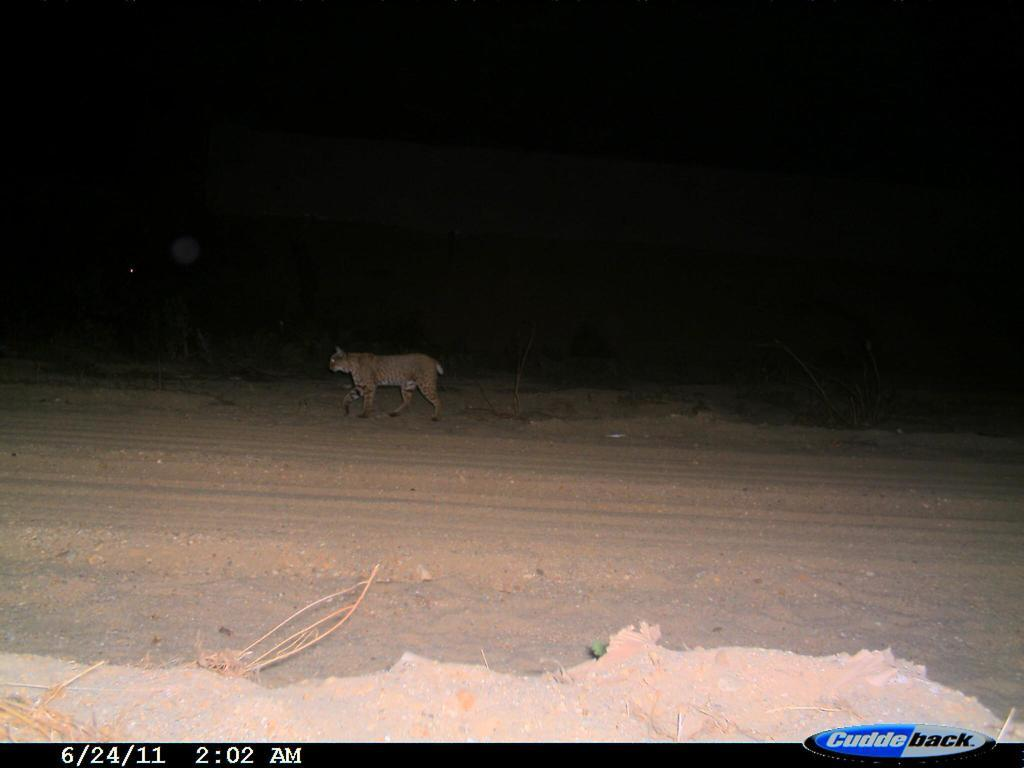bobcat: (322, 337, 464, 431)
